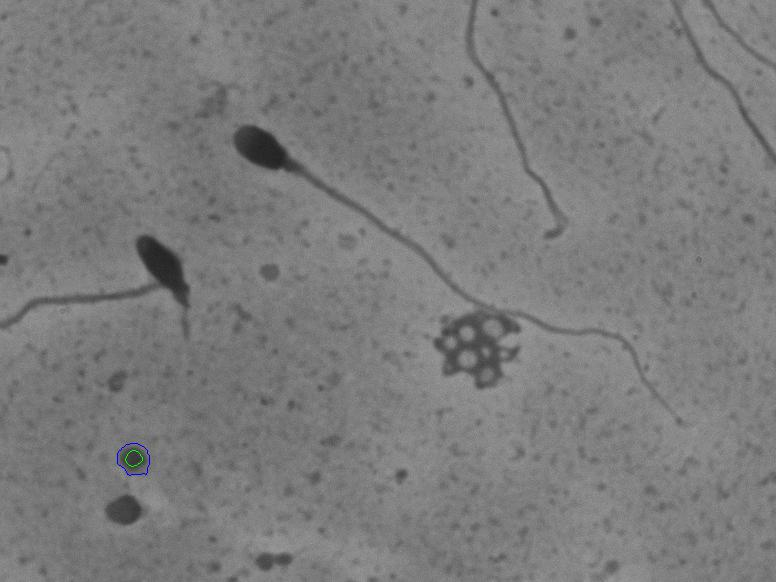Abnormal: (14, 203, 206, 368)
Normal: (223, 114, 705, 442)
